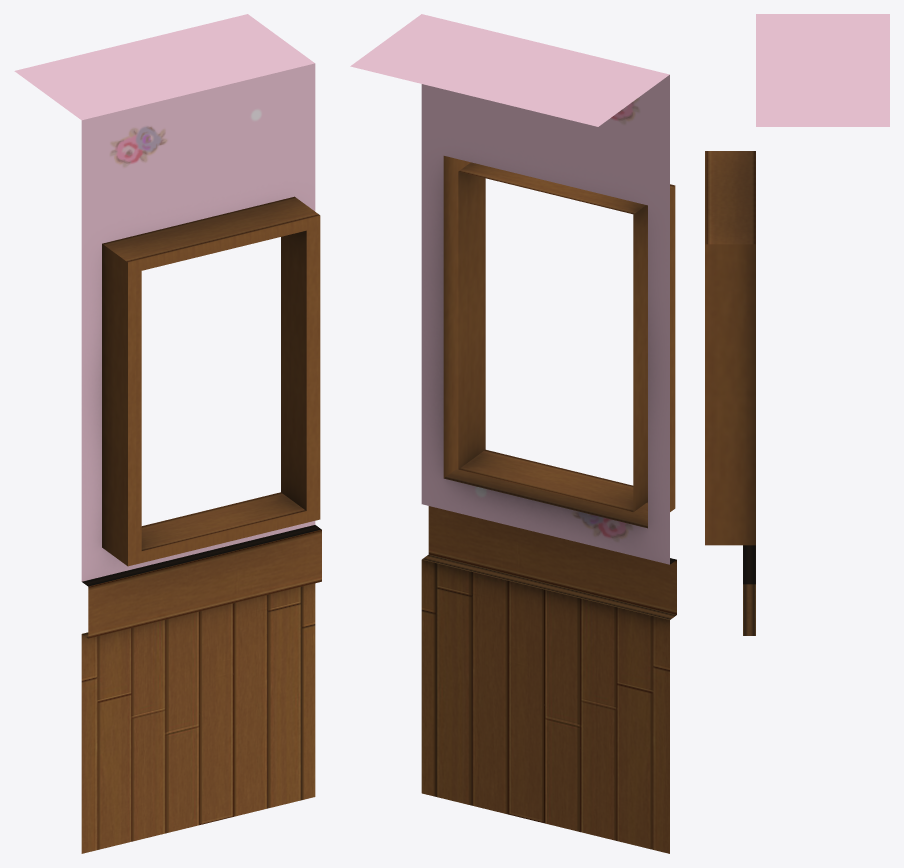
The model's file is Window1.fbx.
The picture shows the model from 3 angles, left to right: view 1: azimuth 30°, elevation 25°; view 2: azimuth 150°, elevation 25°; view 3: azimuth 270°, elevation 25°; orthographic projection. The views are drawn at different scales.
Visible parts, largest first — view 1: Window1; view 2: Window1; view 3: Window1.
Part boxes in pixels (x1,y1,x2,y2): Window1: (14, 14, 321, 853); Window1: (350, 14, 676, 853); Window1: (705, 14, 889, 635).
Bounding box in the file's own units: 100 × 300 × 69.08.
